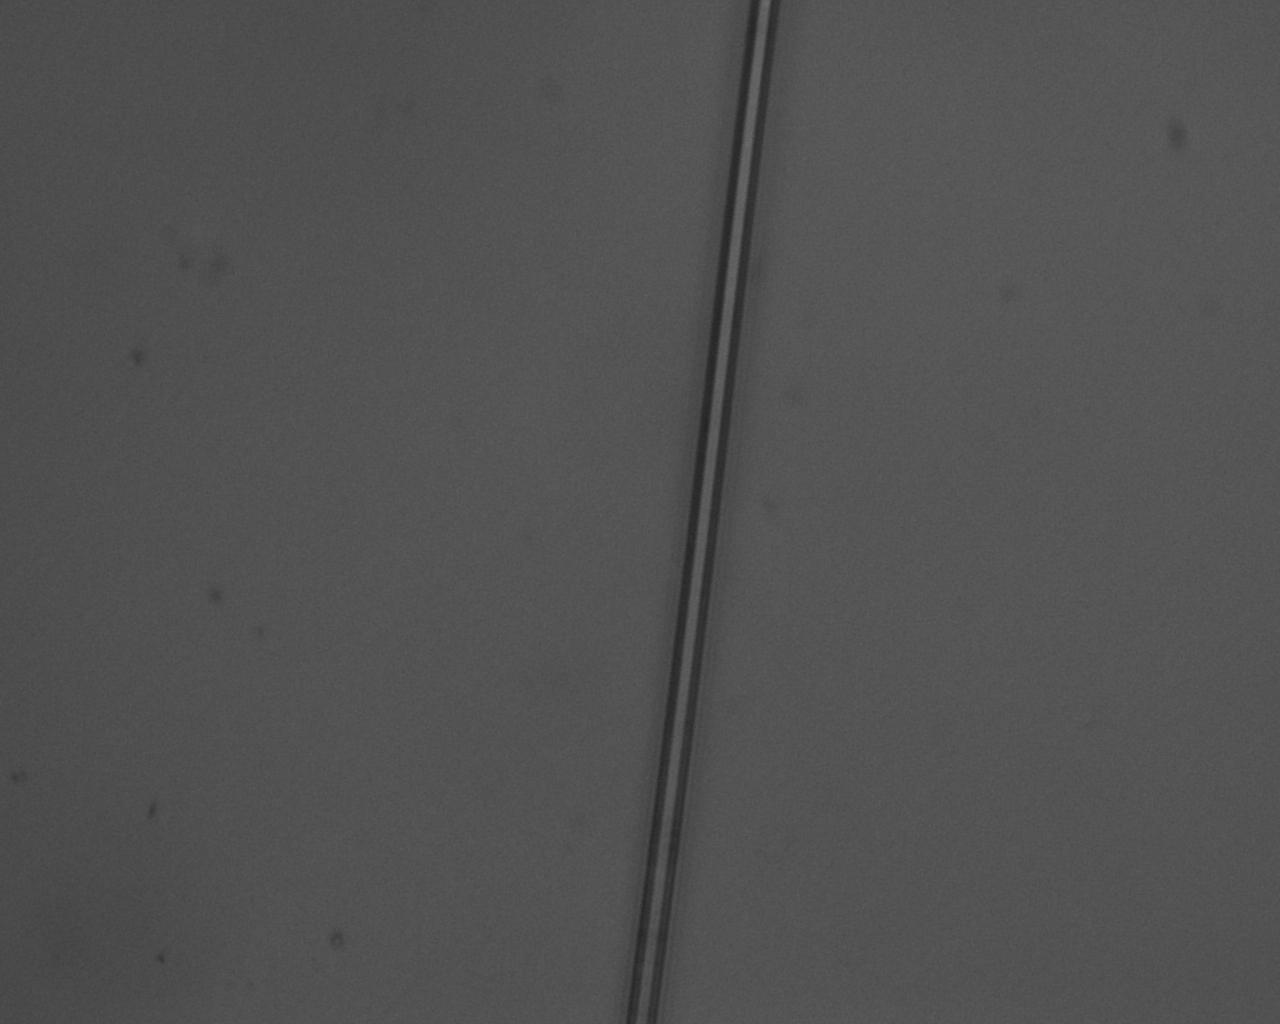fiber: (59, 549, 563, 1024), (563, 297, 1258, 450)
